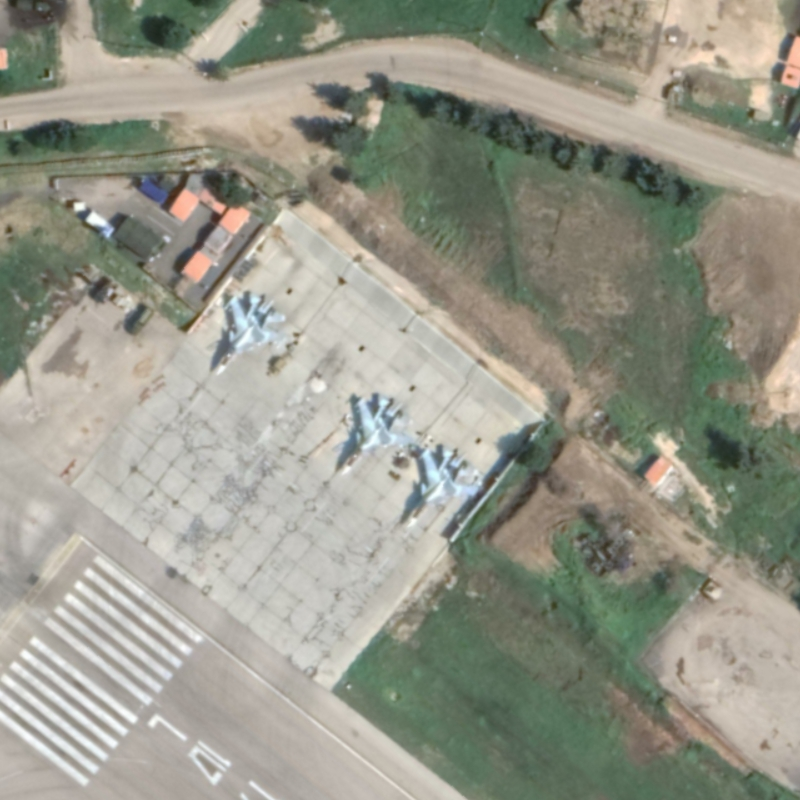A19: (400, 445, 482, 533), (337, 392, 413, 479), (214, 291, 290, 377)
